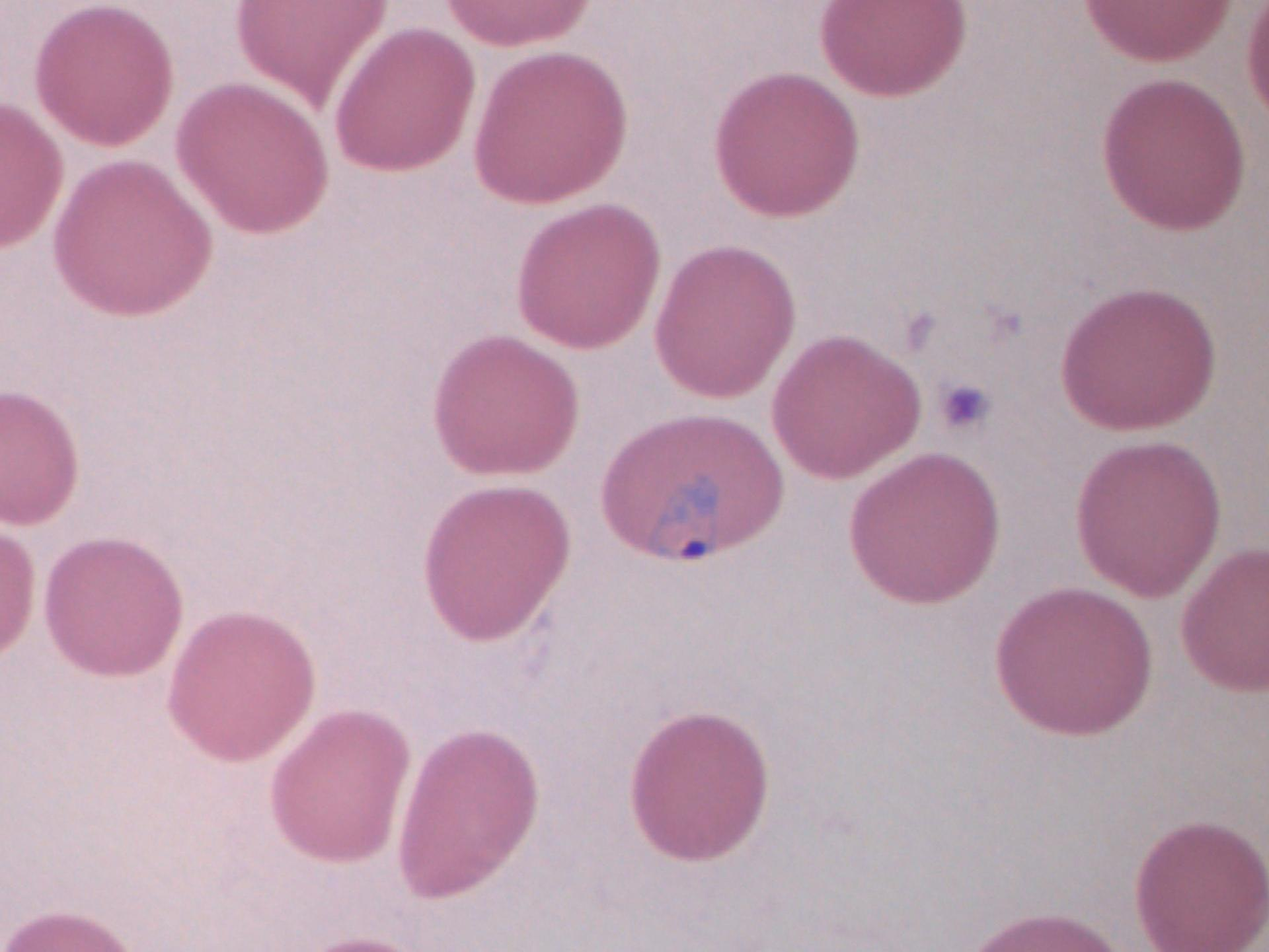Infected: (486, 387, 670, 538)
Uninfected: (1062, 636, 1215, 786), (730, 54, 872, 215), (643, 749, 791, 897), (120, 215, 273, 358), (272, 348, 418, 493), (50, 356, 192, 505), (953, 190, 1101, 332), (703, 312, 843, 460), (26, 721, 165, 869), (56, 521, 205, 659), (502, 87, 637, 238), (473, 555, 613, 700), (944, 723, 1089, 863), (352, 476, 497, 613), (412, 735, 551, 877), (691, 476, 833, 612), (611, 604, 748, 742), (859, 91, 994, 231), (795, 781, 929, 916), (1096, 809, 1230, 937), (1089, 276, 1219, 403), (3, 1, 130, 123), (888, 850, 1026, 951), (307, 859, 446, 950), (3, 262, 85, 394), (1194, 430, 1269, 553), (41, 891, 180, 949)
